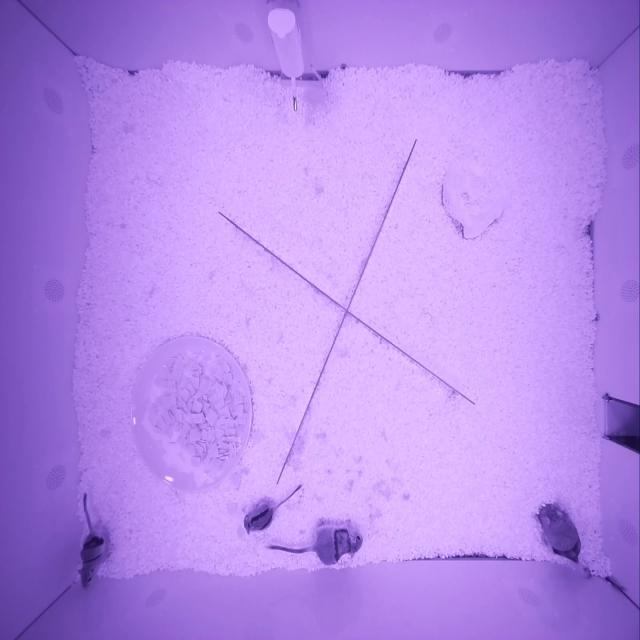adult_back: (539, 503, 581, 560)
adult_front: (314, 524, 363, 566)
pup_h_stripe: (78, 531, 105, 588)
pup_v_stripe: (244, 501, 274, 534)
